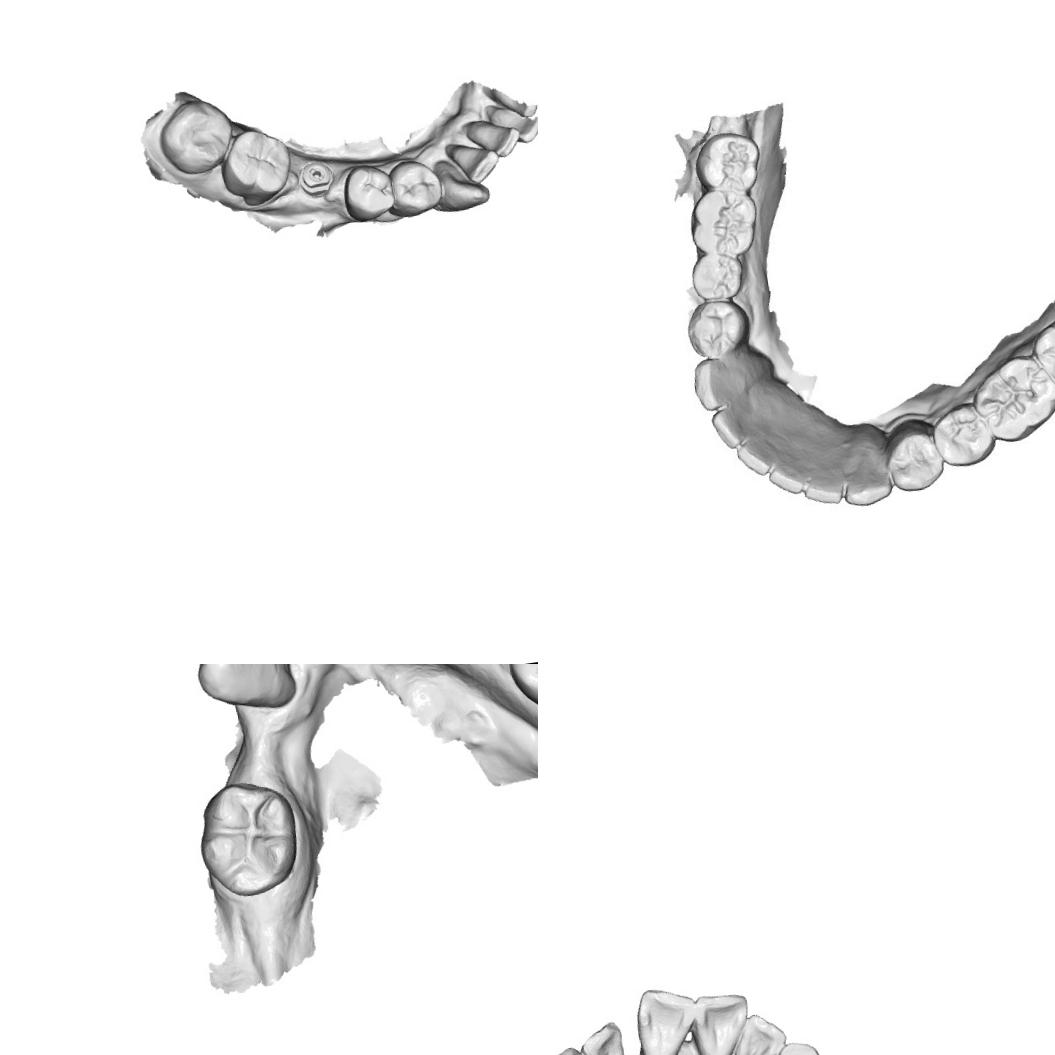canine: (190, 664, 299, 721), (690, 346, 771, 414), (833, 432, 897, 510), (431, 153, 494, 216), (766, 1037, 830, 1055)
implant_minus: (294, 156, 336, 199)
incisor: (629, 982, 705, 1055), (686, 987, 758, 1055), (712, 395, 774, 453), (727, 1008, 792, 1055), (447, 136, 503, 190), (468, 116, 524, 163), (485, 101, 538, 149), (763, 450, 814, 498), (800, 463, 848, 510), (737, 436, 784, 477), (578, 1019, 630, 1055)
molar: (191, 774, 307, 904), (153, 94, 241, 181), (215, 123, 297, 213), (970, 353, 1050, 436), (684, 184, 761, 256), (693, 128, 764, 201), (1032, 307, 1055, 392)
premolar: (932, 401, 998, 468), (887, 422, 946, 496), (337, 158, 398, 226), (385, 156, 447, 220), (687, 300, 749, 360), (689, 250, 741, 301)
